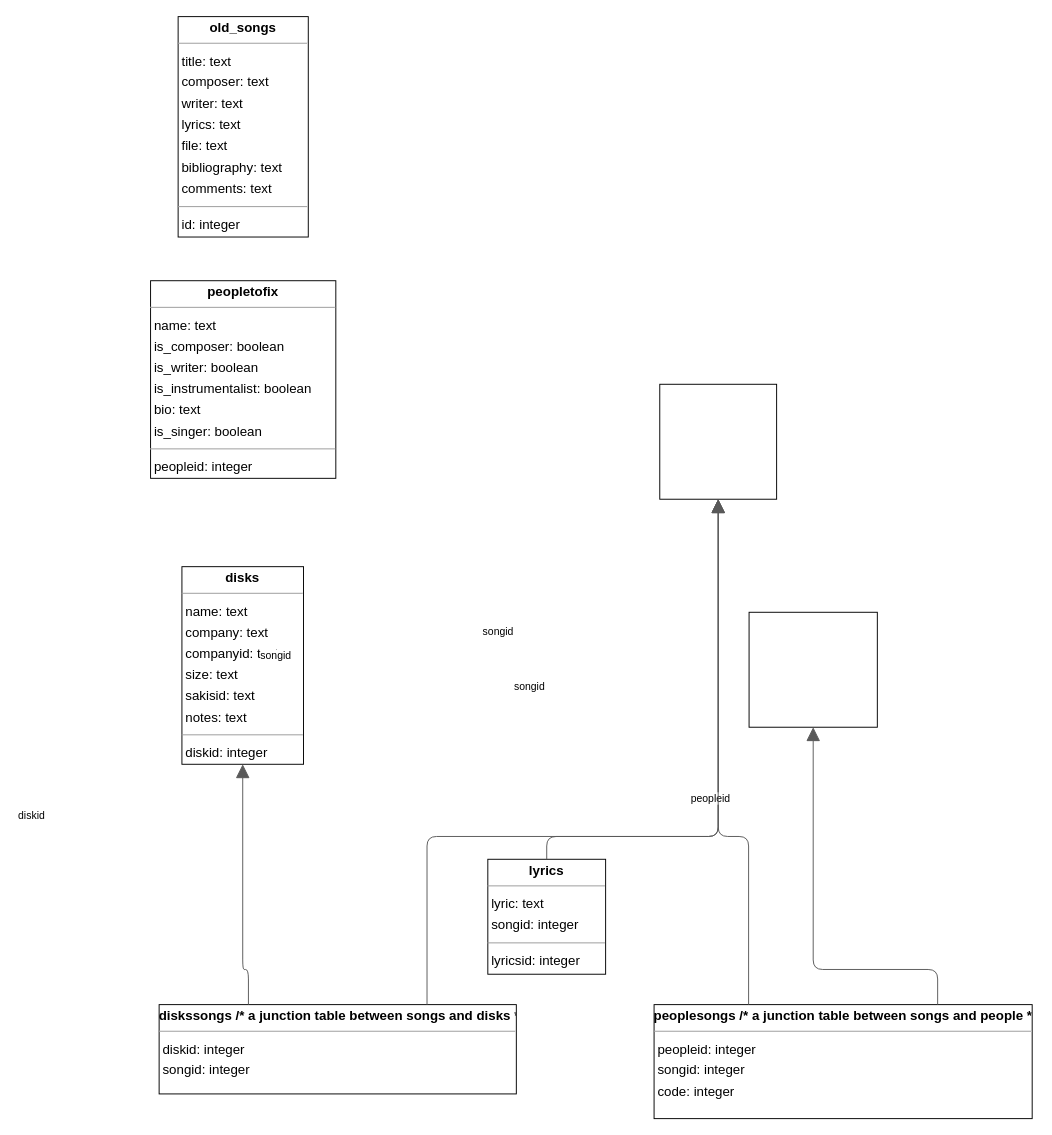
The diagram is 1052 pixels wide and 1135 high, and some of its shapes have lost their labels. Here are the shapes that lost their labels. From the top down, the centre of each, then its label:
At (718,441): "songs title: text notes: text songid: integer".
At (812,669): "people name: text notes: text peopleid: integer".
